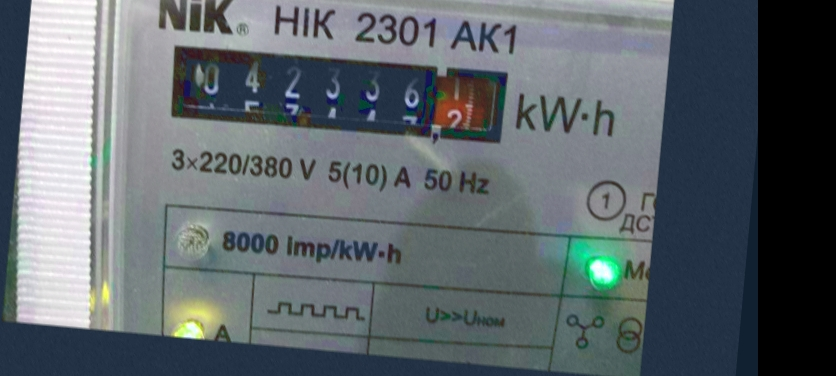0: (199, 59, 222, 96)
1: (447, 73, 463, 103)
2: (280, 63, 303, 100), (442, 106, 462, 129)
3: (321, 62, 343, 102), (359, 66, 382, 104)
4: (240, 56, 262, 95)
6: (397, 72, 422, 109)
screen: (158, 31, 517, 156)
